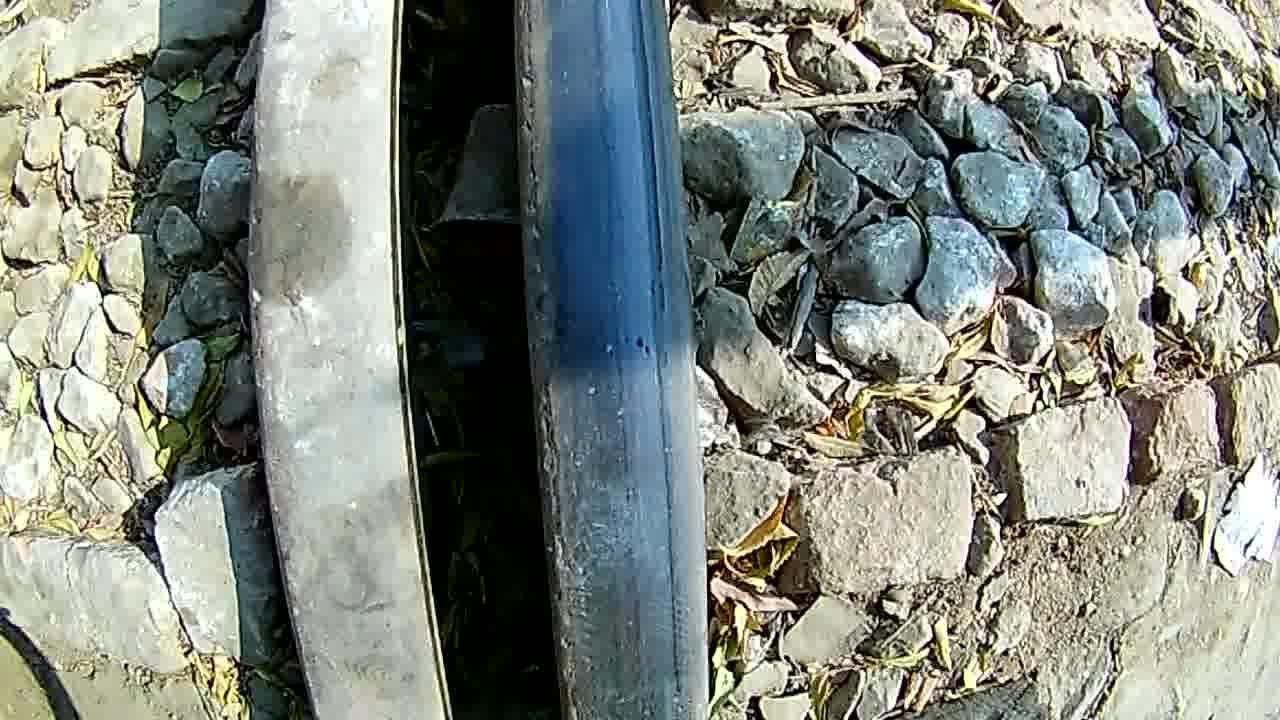crack: (486, 0, 700, 720)
